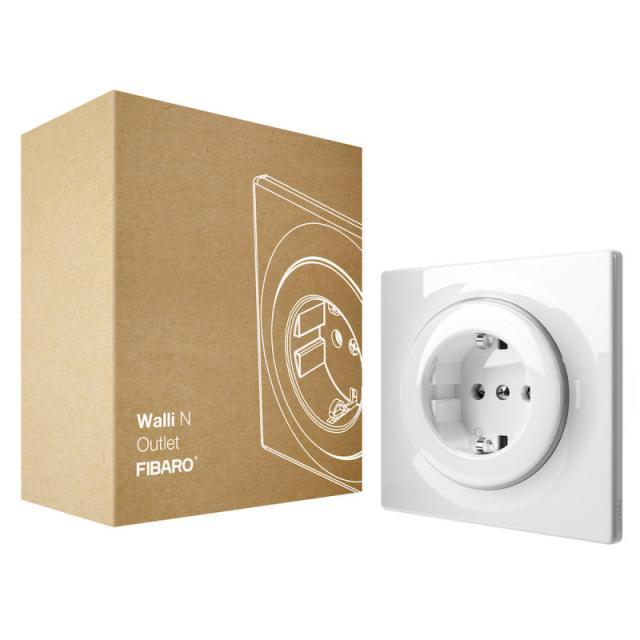typeb: (380, 258, 620, 526)
